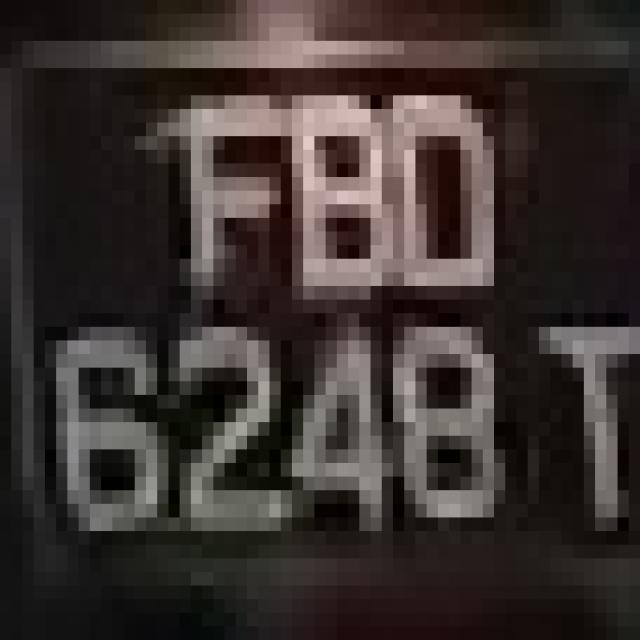2: (168, 313, 314, 572)
4: (270, 300, 416, 599)
6: (34, 313, 180, 558)
8: (382, 300, 516, 544)
B: (269, 82, 393, 272)
F: (157, 54, 281, 286)
T: (516, 300, 640, 558)
